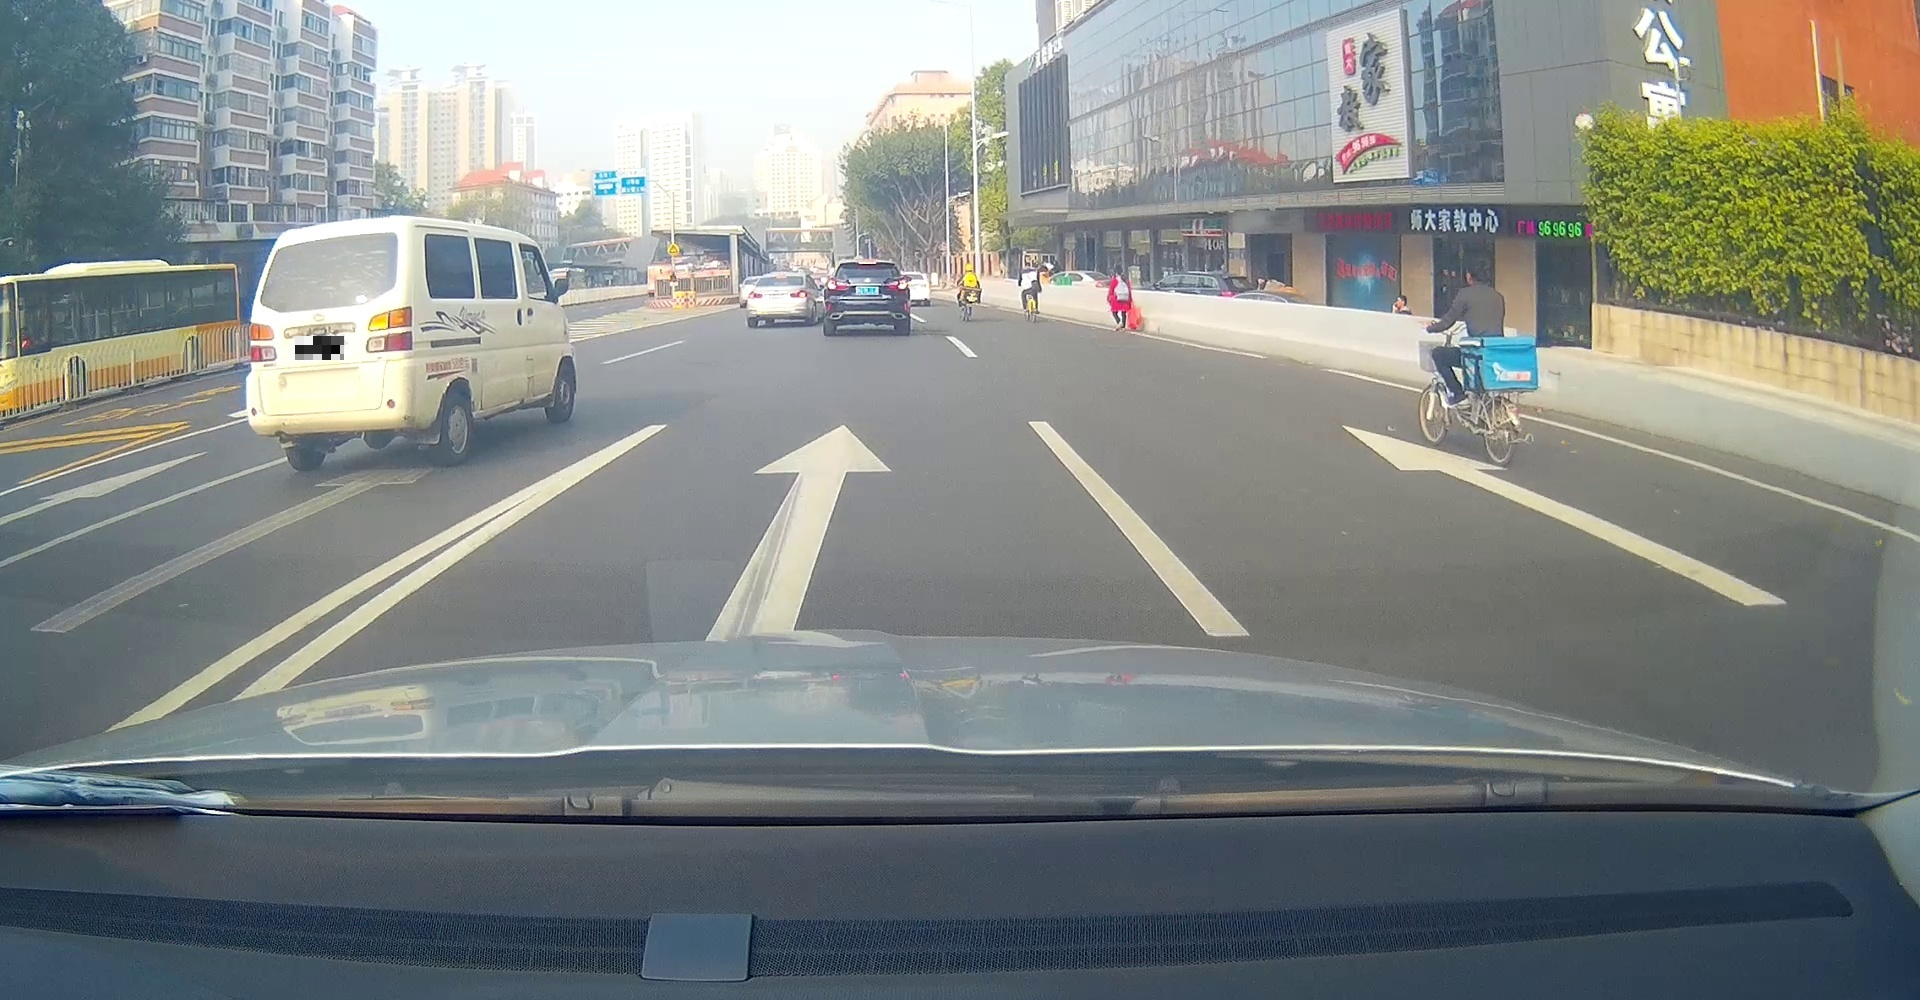L_light: (248, 322, 278, 363), (825, 278, 848, 291), (748, 291, 763, 299)
R_light: (364, 305, 413, 353), (888, 278, 909, 291), (790, 291, 808, 298)
T_light: (317, 239, 342, 244), (857, 261, 877, 264), (776, 275, 789, 279)
day-brake: (823, 258, 910, 336), (745, 272, 811, 327)
day-no: (243, 214, 422, 470)
plate_1: (295, 336, 344, 360)
